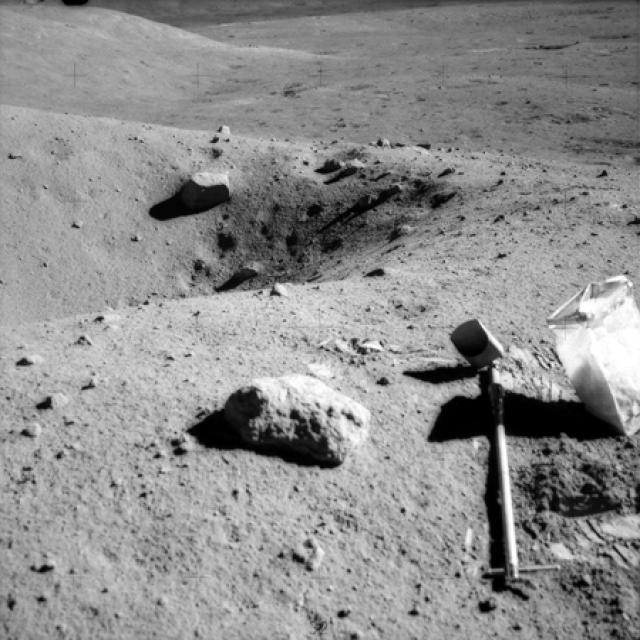artifact: (423, 262, 640, 588)
crater: (1, 152, 398, 314)
rock: (204, 368, 350, 458), (170, 171, 238, 217), (281, 524, 327, 569), (232, 259, 266, 285), (201, 120, 234, 146), (33, 391, 67, 416), (10, 348, 45, 370)
